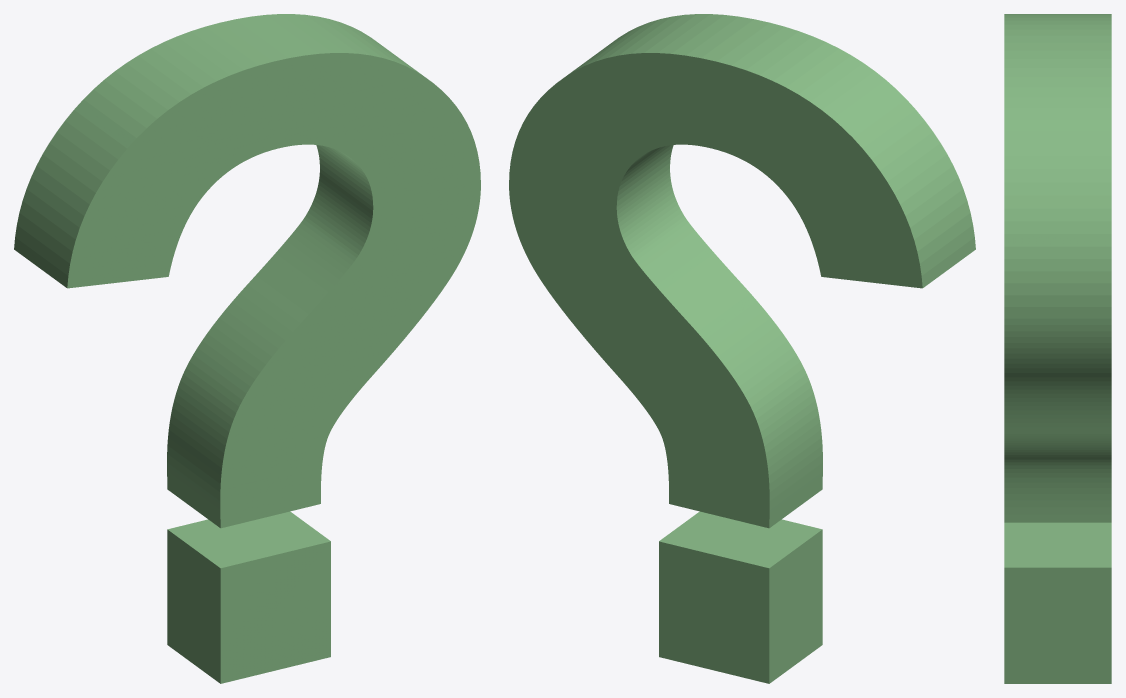
File: qmark.glb
3 renders of one model, left to right at view 1: azimuth 30°, elevation 25°; view 2: azimuth 150°, elevation 25°; view 3: azimuth 270°, elevation 25°, orthographic.
Parts seen in each view (by area): view 1: Text; view 2: Text; view 3: Text.
Boxes of the visible parts, bbox=[...] form: Text: bbox=[14, 14, 480, 683]; Text: bbox=[509, 14, 975, 683]; Text: bbox=[1004, 14, 1111, 683].
Size of the model in its own units: 0.3587 by 0.5049 by 0.08.
